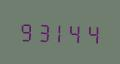four: (82, 20, 97, 45), (66, 20, 81, 44)
nine: (18, 18, 33, 43)
one: (50, 19, 65, 44)
three: (34, 19, 49, 43)
